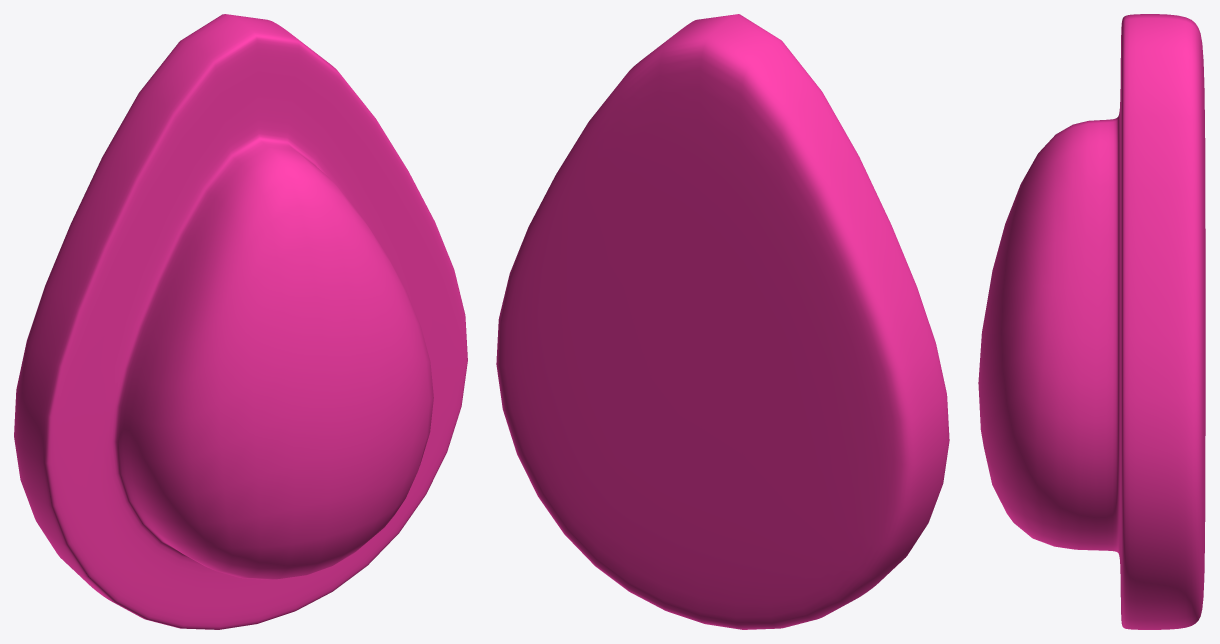
File: Candy 02.fbx
3 views of the same model, side by side, from view 1: azimuth 30°, elevation 25°; view 2: azimuth 150°, elevation 25°; view 3: azimuth 270°, elevation 25° (orthographic).
Visible parts, largest first — view 1: Candy_02; view 2: Candy_02; view 3: Candy_02.
Boxes of the visible parts, box(x1,y1,x2,y2) form: Candy_02: box(14, 14, 467, 629); Candy_02: box(496, 14, 949, 629); Candy_02: box(978, 14, 1205, 629).
Size of the model in its own units: 15 by 20 by 7.
